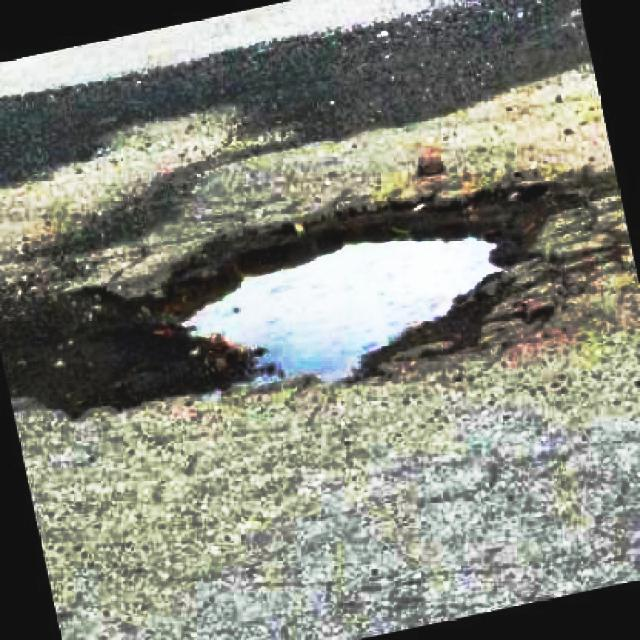pothole: (58, 174, 557, 406)
